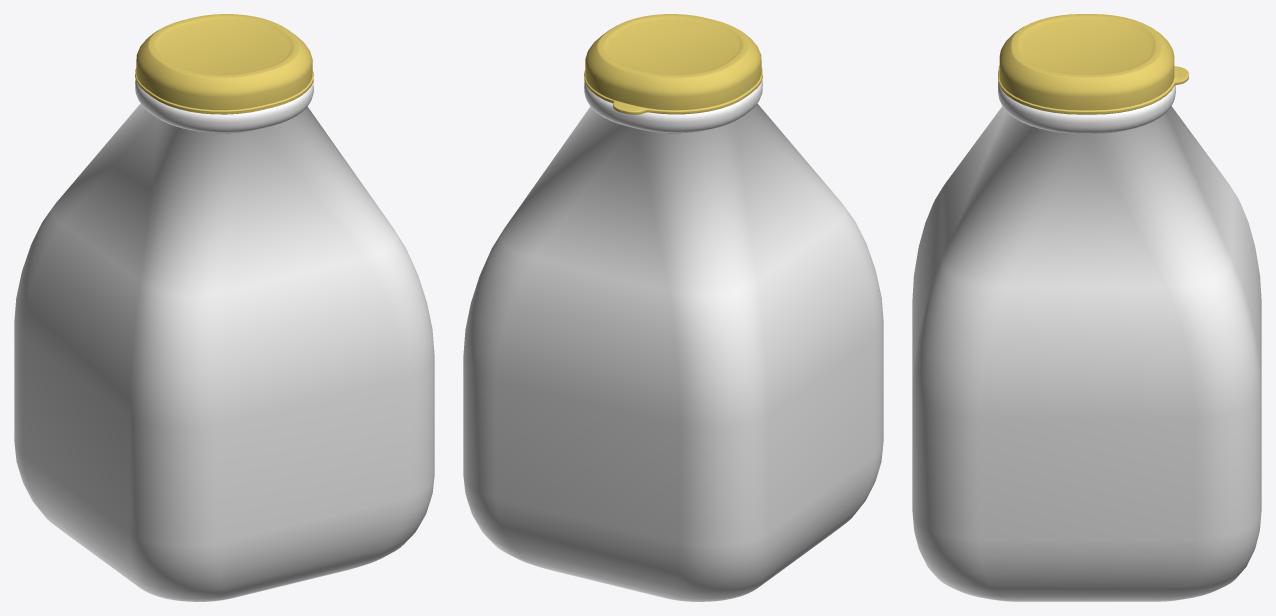
Rendered from MadBullBottle.fbx.
3 renders of one model, left to right at view 1: azimuth 30°, elevation 25°; view 2: azimuth 150°, elevation 25°; view 3: azimuth 270°, elevation 25°, orthographic.
Parts seen in each view (by area): view 1: MadBull, BottleCap; view 2: MadBull, BottleCap; view 3: MadBull, BottleCap.
Boxes of the visible parts, box(x1,y1,x2,y2) form: MadBull: box(14, 79, 434, 601); BottleCap: box(135, 14, 313, 114); MadBull: box(463, 79, 883, 601); BottleCap: box(584, 14, 762, 114); MadBull: box(912, 81, 1261, 601); BottleCap: box(998, 14, 1188, 114).
Size of the model in its own units: 8.89 by 14.05 by 8.89.
